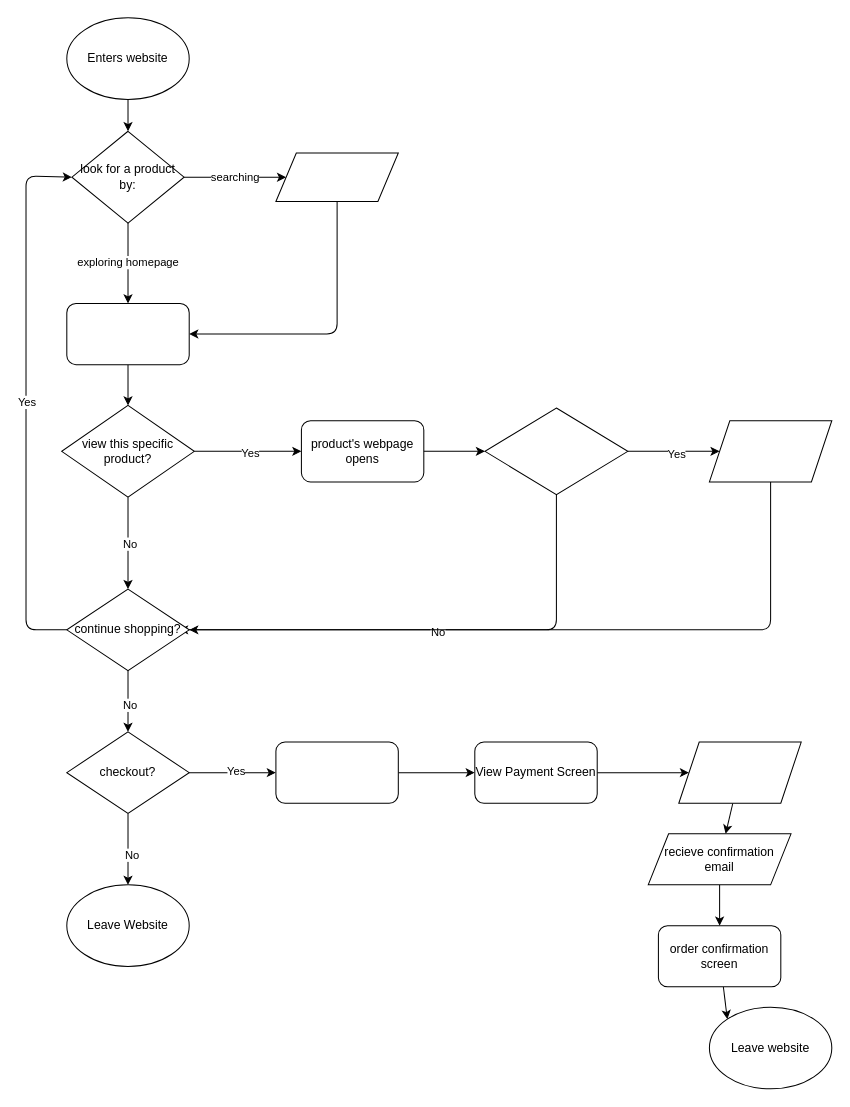
Image size: 850x1107. Some labels were removed from this diagram. The shapes that lost their labels are listed below. From the top down, each one's box as (x1, y1, x2, y2) in pixels, then its label:
(275, 152, 398, 201): input search
(66, 302, 189, 365): looks over products
(484, 407, 628, 495): add product to cart?
(708, 420, 832, 482): cart added confirmation output
(275, 741, 398, 803): View Cart Screen
(678, 741, 801, 803): input payment information
